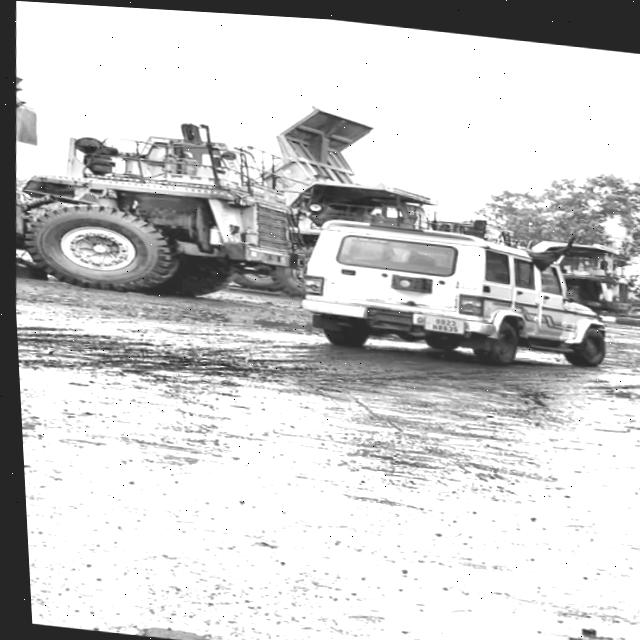dump_truck: (2, 0, 271, 303)
light_vehicle: (302, 217, 615, 369)
